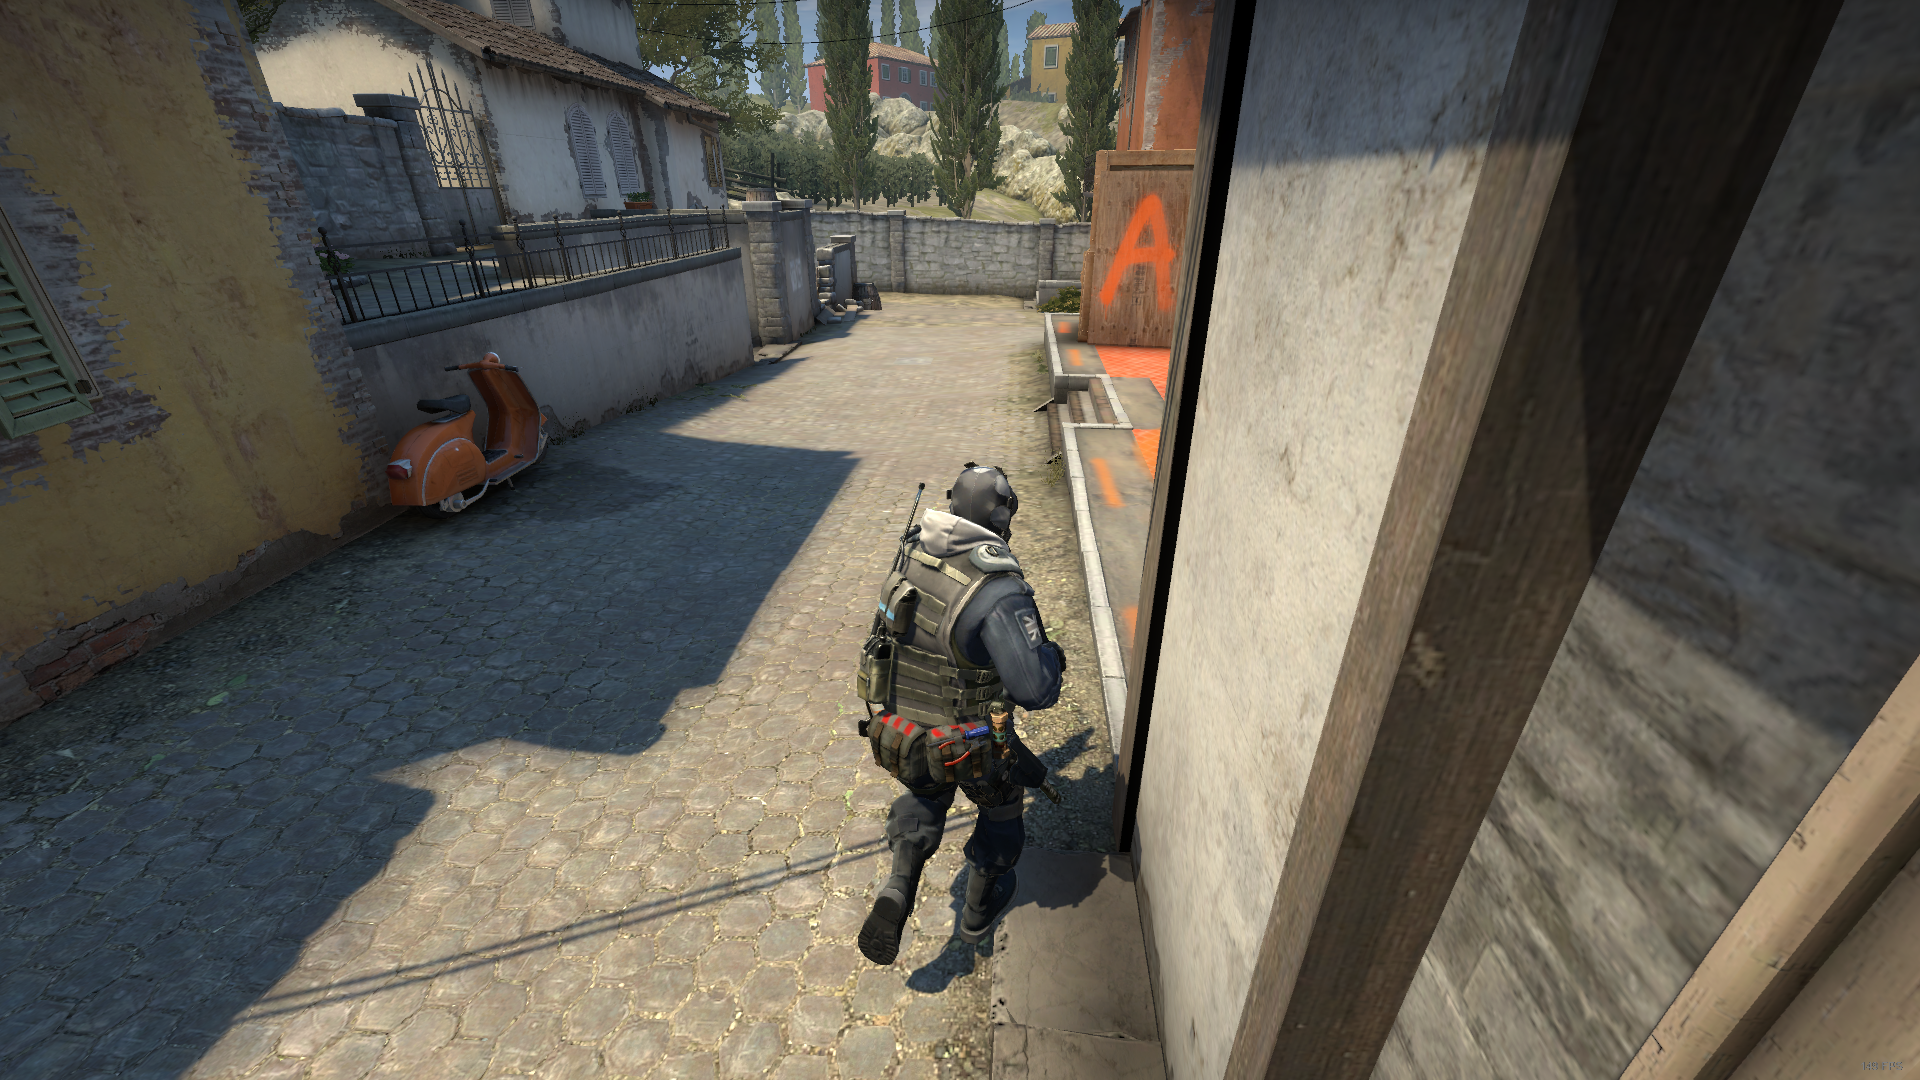ct: (855, 460, 1065, 967)
